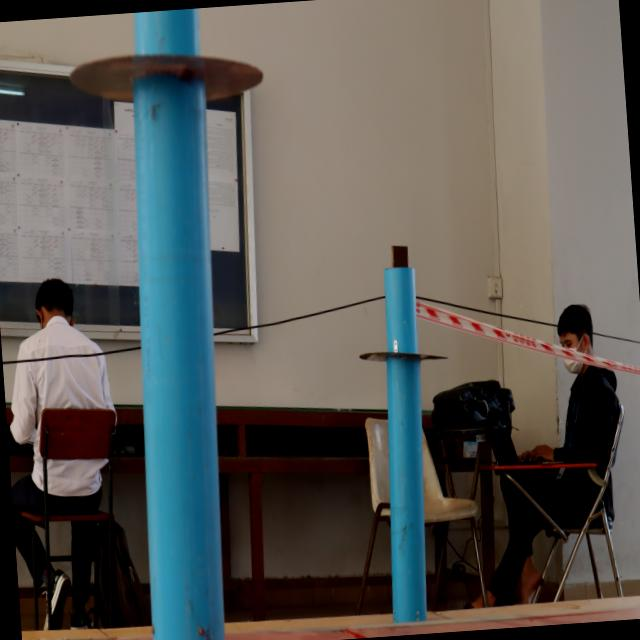pole: (58, 4, 286, 262), (346, 251, 460, 465)
